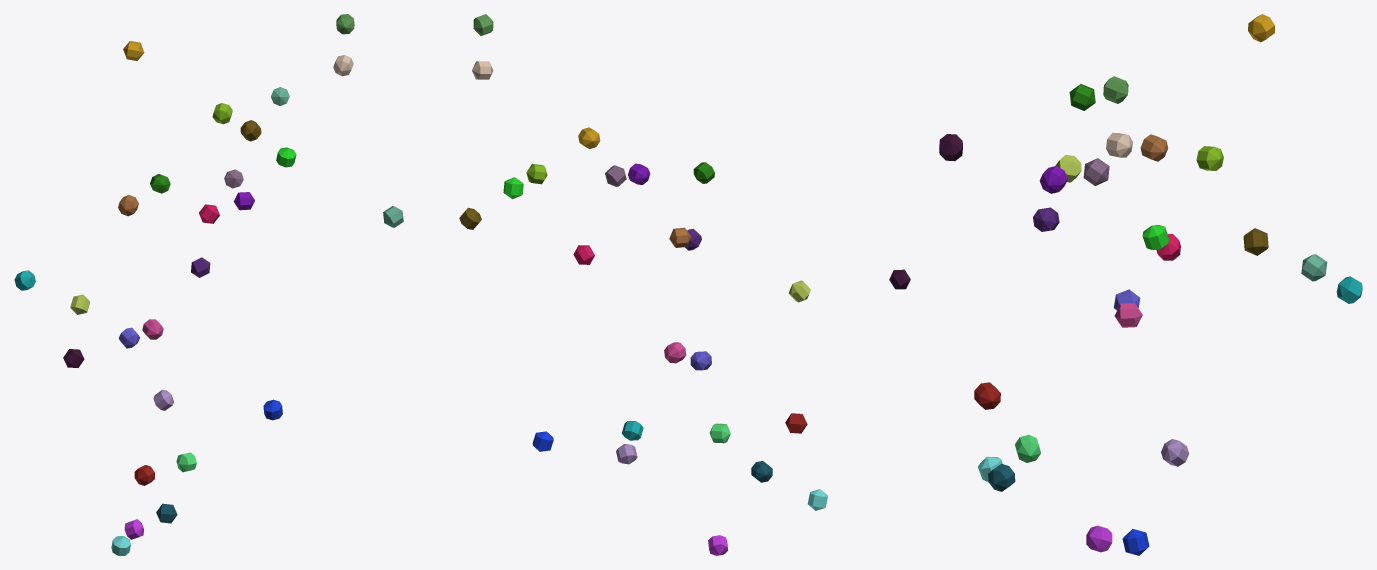
The model's file is fg-00030-bone.obj.
The picture shows the model from 3 angles, left to right: view 1: azimuth 30°, elevation 25°; view 2: azimuth 150°, elevation 25°; view 3: azimuth 270°, elevation 25°; orthographic projection. The views are drawn at different scales.
Size of the model in its own units: 0.1927 by 0.2365 by 0.1483.
